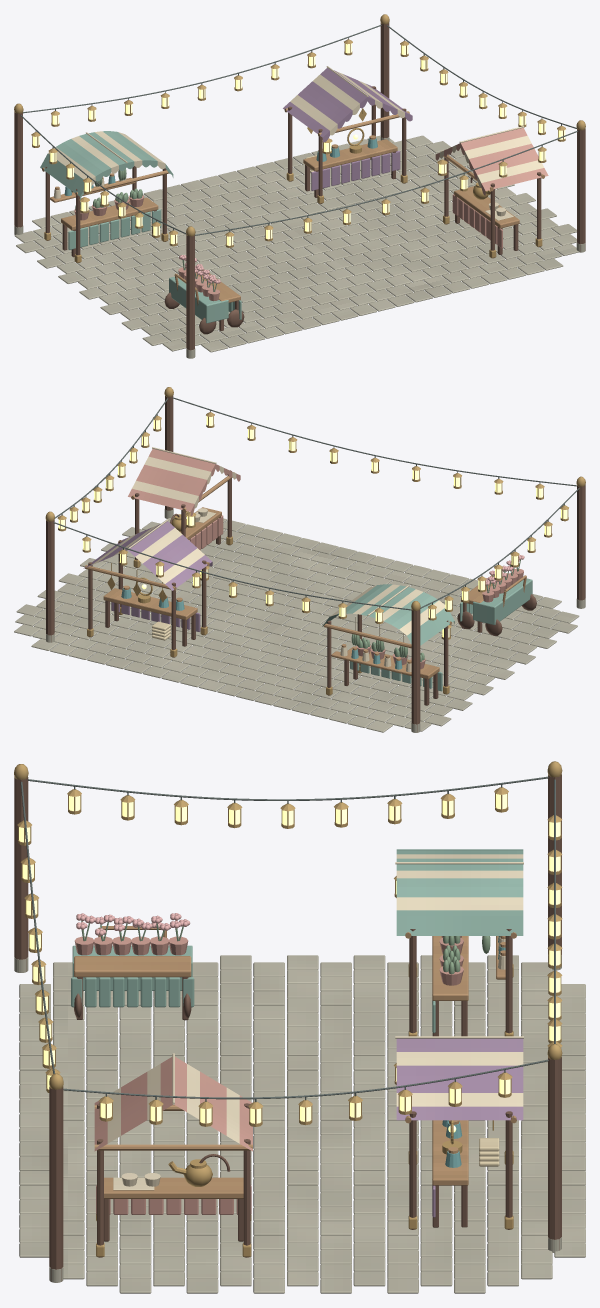
The model's file is village-market.glb.
3 views of the same model, one above another, from view 1: azimuth 30°, elevation 25°; view 2: azimuth 150°, elevation 25°; view 3: azimuth 270°, elevation 25° (orthographic). The views are drawn at different scales.
Visible parts, largest first — view 1: Forest hamlet; view 2: Forest hamlet; view 3: Forest hamlet.
Part boxes in pixels (x1,y1,x2,y2): Forest hamlet: [14, 14, 585, 358]; Forest hamlet: [14, 387, 585, 732]; Forest hamlet: [14, 761, 585, 1293].
Size of the model in its own units: 13.6 by 3.89 by 9.75.
14 materials, 14 textured.
